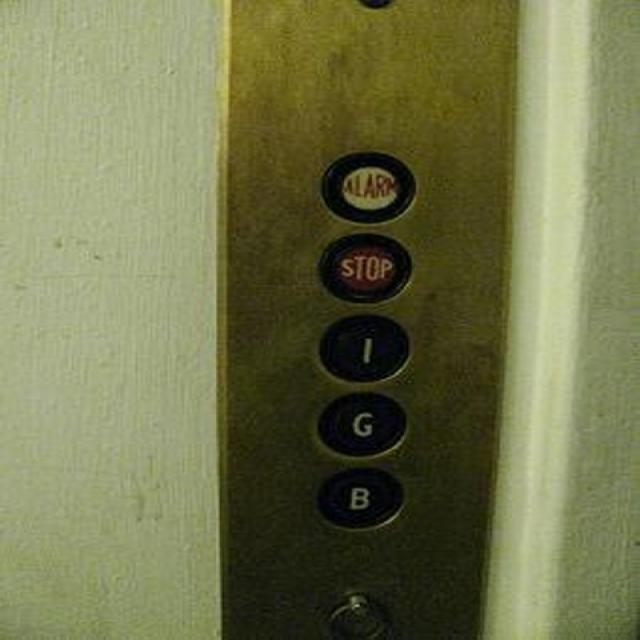1: (316, 309, 412, 383)
B: (314, 466, 406, 530)
G: (312, 389, 411, 458)
text_alarm bell: (316, 148, 419, 222)
text_stop: (316, 230, 416, 304)
